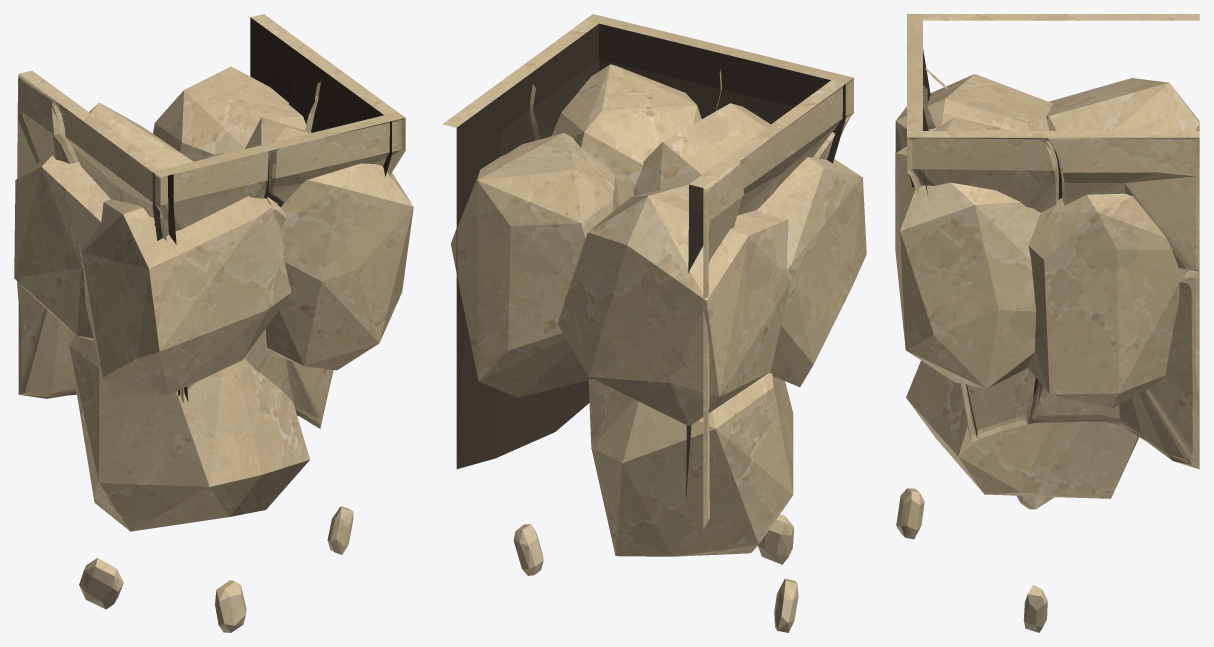
Rendered from ground_bottom_end_09.glb.
3 renders of one model, left to right at view 1: azimuth 30°, elevation 25°; view 2: azimuth 150°, elevation 25°; view 3: azimuth 270°, elevation 25°, orthographic. The views are drawn at different scales.
Parts seen in each view (by area): view 1: GroundBottomEnd09_Body; view 2: GroundBottomEnd09_Body; view 3: GroundBottomEnd09_Body.
Part boxes in pixels (x1=…): GroundBottomEnd09_Body: x1=14, y1=14, x2=413, y2=632; GroundBottomEnd09_Body: x1=442, y1=14, x2=866, y2=632; GroundBottomEnd09_Body: x1=895, y1=14, x2=1199, y2=632.
Bounding box in the file's own units: 1.08 × 1.87 × 1.04.
Materials: 11 (10 with a texture image).
